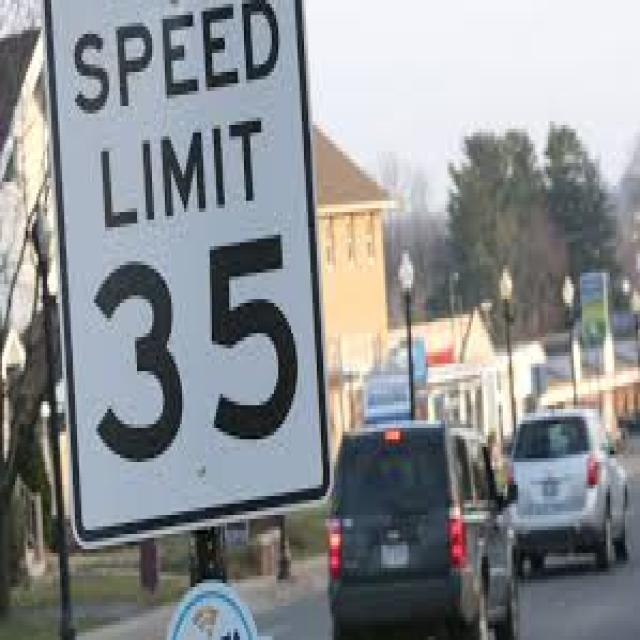speedLimit35: (41, 18, 334, 528)
